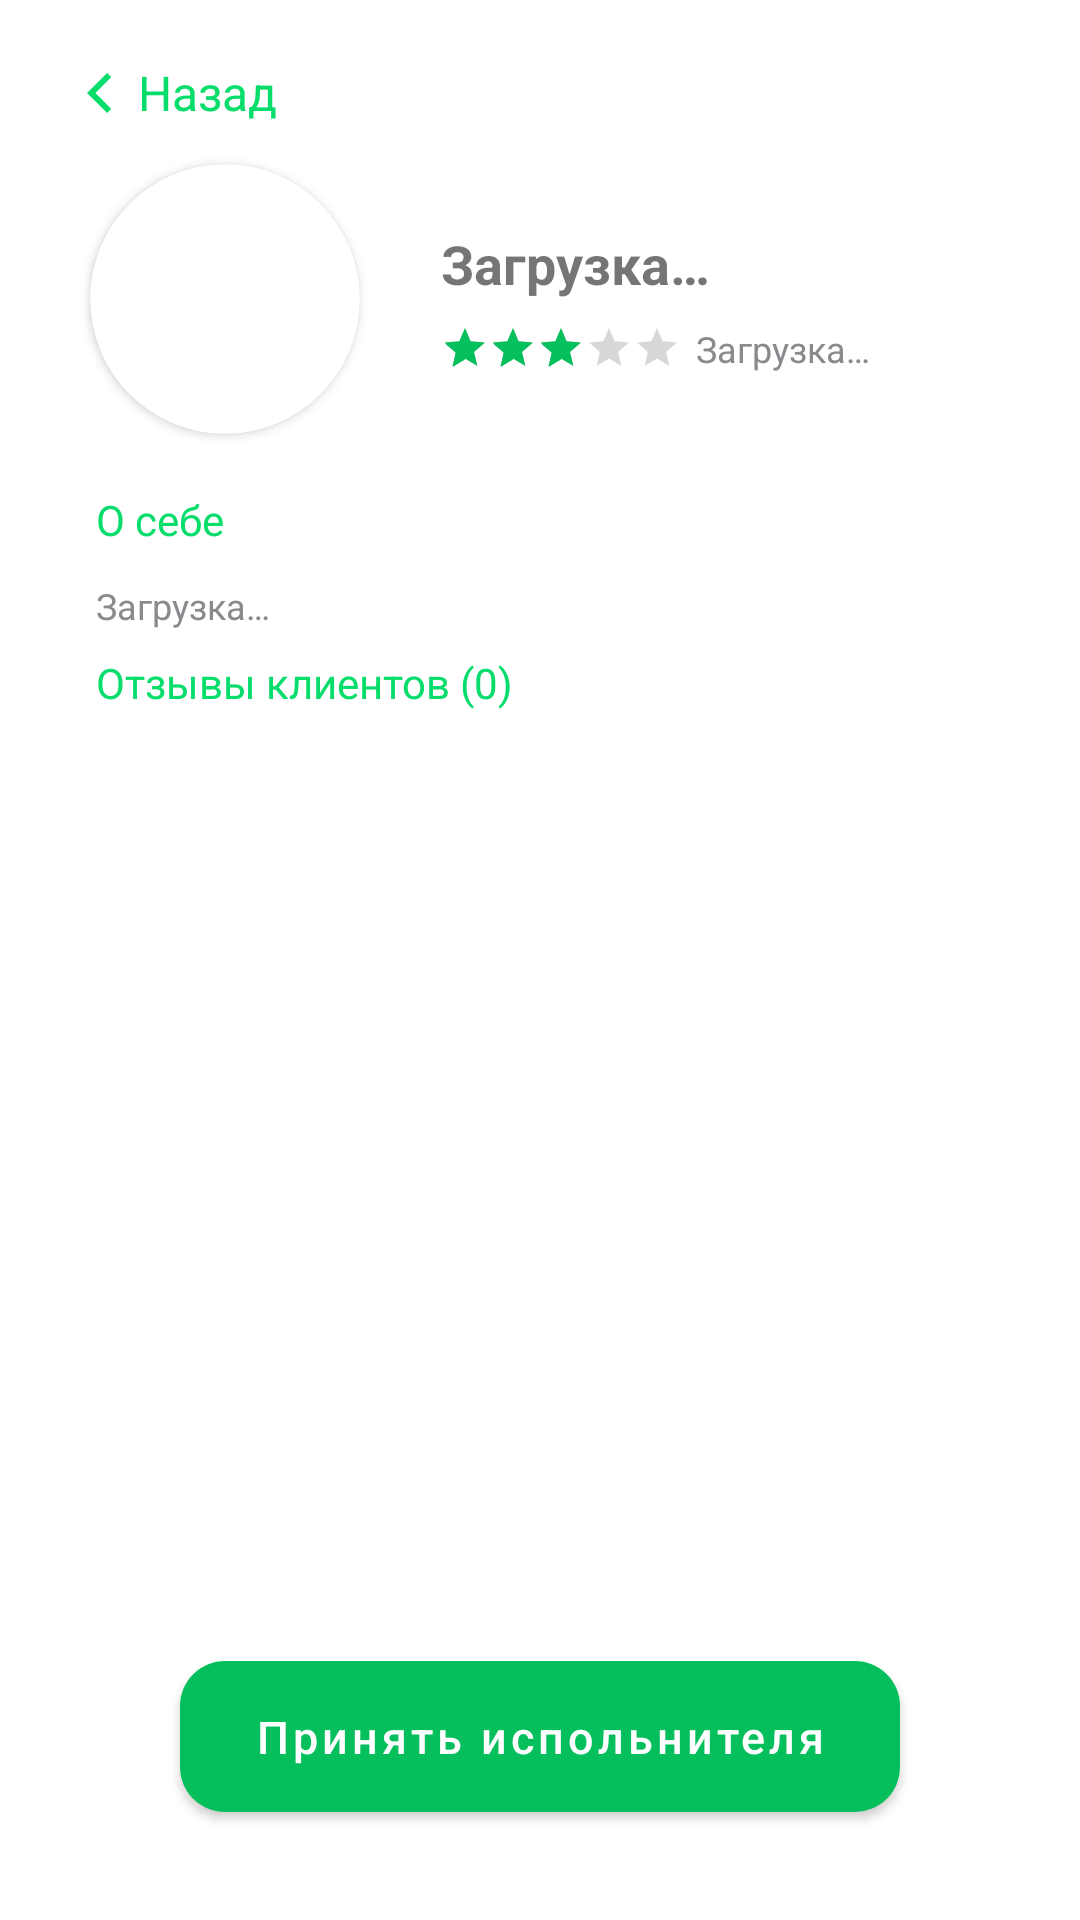

Screen size 1080×1920. Icon name, then its box in pixels as box(x1, y1, x2, y2):
back arrow: box(87, 73, 111, 113)
